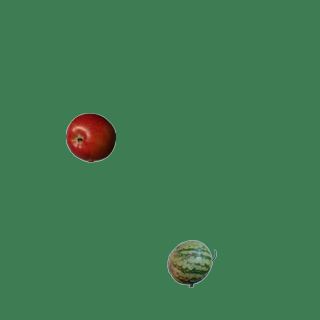Apple Braeburn: (65, 112, 115, 162)
Watermelon: (166, 238, 216, 288)
